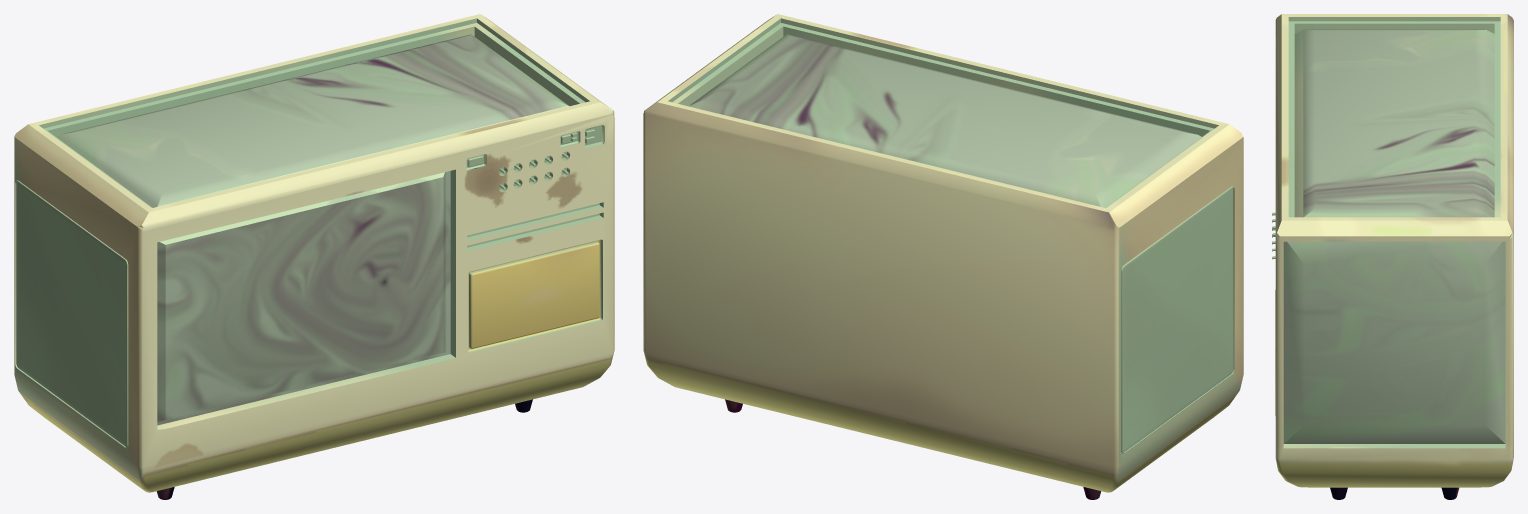
The model's file is RadioPequena.fbx.
3 views of the same model, side by side, from view 1: azimuth 30°, elevation 25°; view 2: azimuth 150°, elevation 25°; view 3: azimuth 270°, elevation 25° (orthographic). The views are drawn at different scales.
Visible parts, largest first — view 1: tv; view 2: tv; view 3: tv.
Boxes of the visible parts, bbox=[...] form: tv: bbox=[14, 14, 614, 499]; tv: bbox=[643, 14, 1243, 499]; tv: bbox=[1272, 14, 1513, 499].
Bounding box in the file's own units: 175 × 112 × 81.77.
